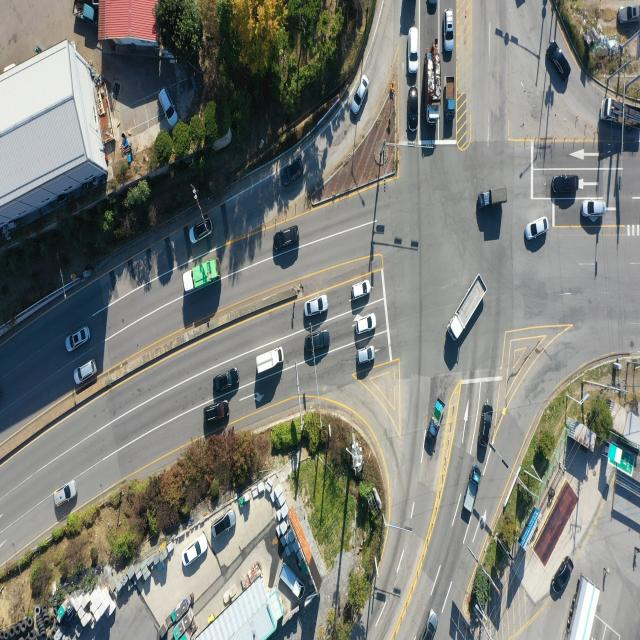car: (550, 45, 571, 83), (157, 85, 176, 126), (184, 537, 208, 569), (550, 176, 581, 198), (352, 76, 369, 116), (190, 217, 214, 245), (212, 509, 235, 538), (281, 156, 304, 185), (75, 359, 99, 386), (212, 369, 239, 393), (185, 222, 209, 249), (65, 326, 89, 352), (274, 225, 300, 249), (55, 481, 78, 508), (480, 404, 494, 447), (304, 331, 329, 355), (525, 216, 548, 240), (304, 294, 328, 317), (408, 86, 420, 132), (420, 611, 439, 640), (204, 403, 228, 425), (354, 314, 376, 336), (583, 199, 607, 219), (350, 279, 371, 301), (410, 27, 420, 72), (618, 4, 640, 24), (355, 345, 375, 366), (446, 11, 455, 52), (426, 0, 437, 16)
medium_truck: (447, 278, 485, 346), (565, 577, 600, 640), (182, 259, 220, 296), (602, 95, 640, 128), (425, 49, 440, 124)
small_truck: (464, 464, 484, 517), (255, 346, 285, 379), (427, 399, 445, 442), (279, 565, 303, 595), (479, 186, 509, 209), (73, 1, 97, 24), (446, 77, 457, 120)
